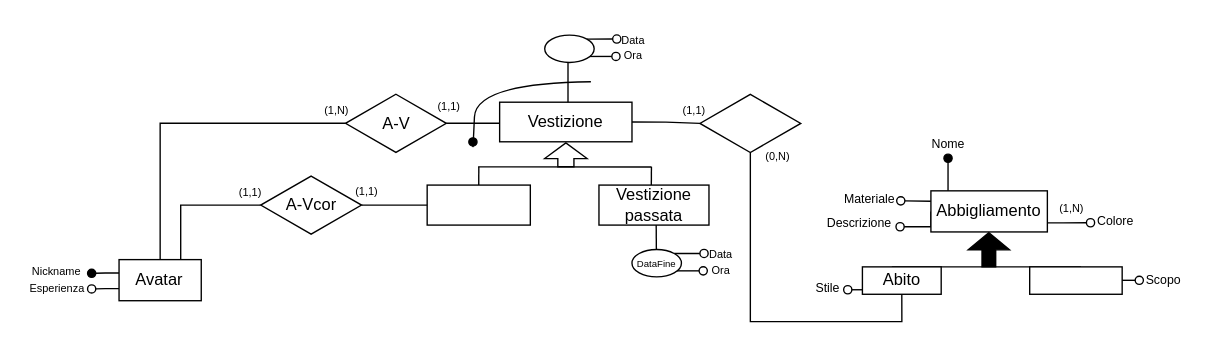
This 1214x348 diagram has some shape labels left out. Each missing label, with the box of its shape:
Accessorio: (1028, 266, 1122, 294)
DataInizio: (543, 34, 594, 62)
V-A: (699, 93, 801, 152)
Vestizione corrente: (426, 184, 530, 225)
